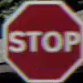Stop: (2, 0, 81, 79)
